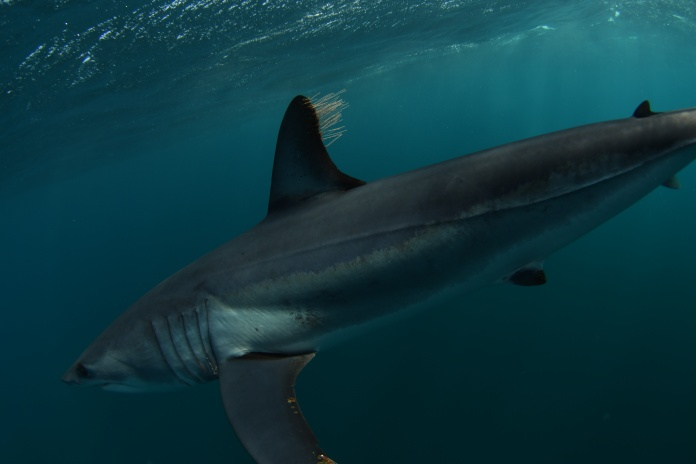Mako: (53, 78, 694, 464)
